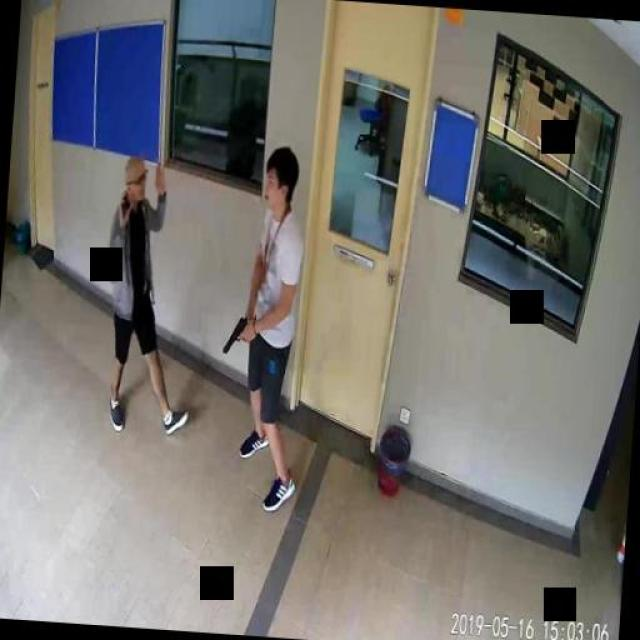gun: (222, 314, 248, 355)
